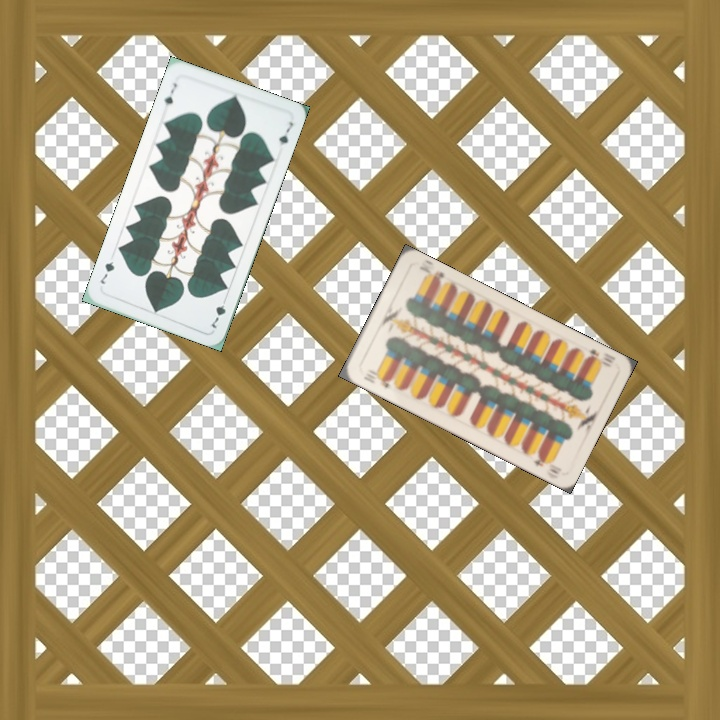E10: (581, 343, 616, 366), (359, 372, 394, 390)
G7: (207, 293, 229, 331), (159, 79, 179, 113)
